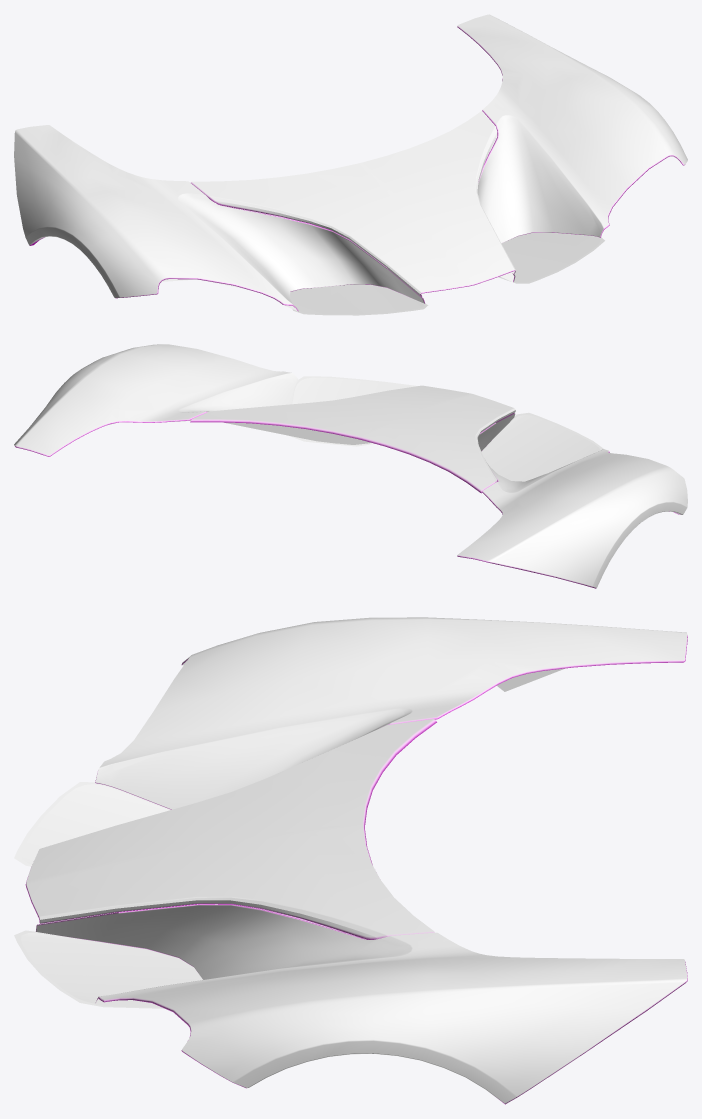
Rendered from Car_Ford_GT_2017_Hood_SetA.fbx.
The picture shows the model from 3 angles, top to bottom: view 1: azimuth 30°, elevation 25°; view 2: azimuth 150°, elevation 25°; view 3: azimuth 270°, elevation 25°; orthographic projection. The views are drawn at different scales.
Visible parts, largest first — view 1: Hood 6; view 2: Hood 6; view 3: Hood 6.
Boxes of the visible parts, left/top/right/bottom form: Hood 6: left=14, top=14, right=687, bottom=315; Hood 6: left=14, top=344, right=687, bottom=588; Hood 6: left=14, top=617, right=687, bottom=1104.
Bounding box in the file's own units: 1.96 × 0.2586 × 1.33.
